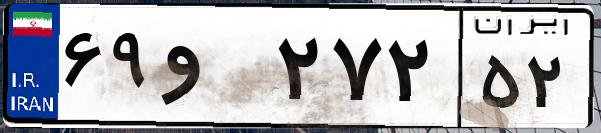2: (270, 28, 330, 110), (385, 28, 445, 110), (525, 38, 570, 115)
5: (475, 38, 525, 113)
6: (57, 26, 110, 100)
7: (330, 28, 385, 110)
9: (110, 28, 158, 98)
و: (158, 20, 270, 120)
